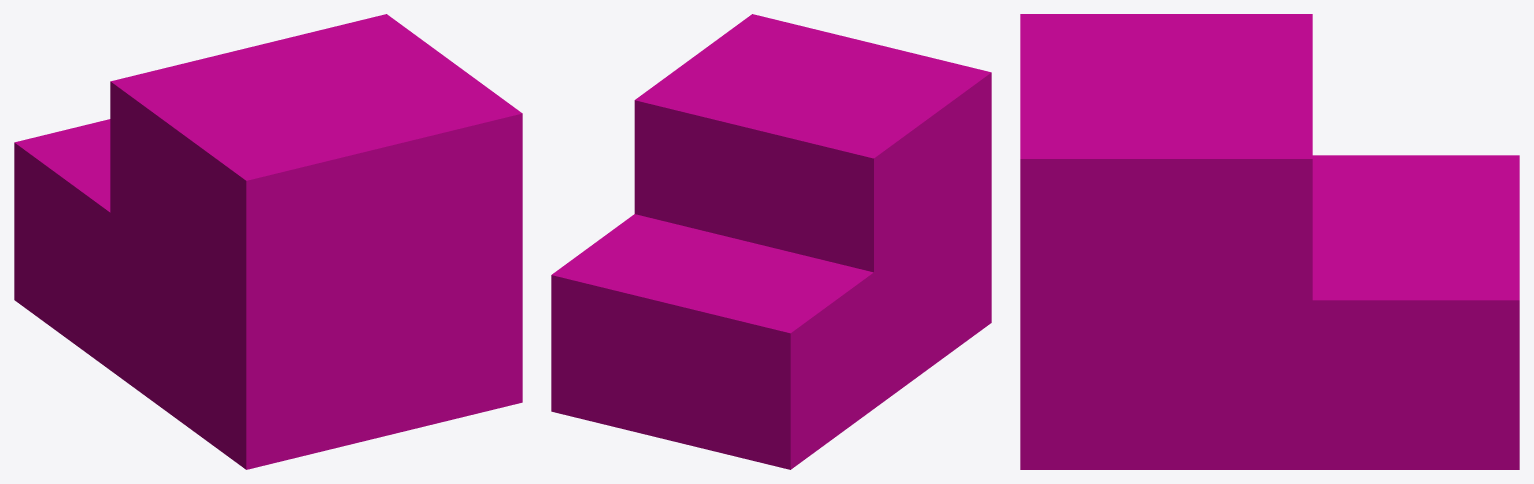
Rendered from left_gripper_collision.dae.
3 views of the same model, side by side, from view 1: azimuth 30°, elevation 25°; view 2: azimuth 150°, elevation 25°; view 3: azimuth 270°, elevation 25° (orthographic). The views are drawn at different scales.
Visible parts, largest first — view 1: left_gripper_collision; view 2: left_gripper_collision; view 3: left_gripper_collision.
Boxes of the visible parts, x1=… form: left_gripper_collision: x1=14, y1=14, x2=522, y2=469; left_gripper_collision: x1=551, y1=14, x2=991, y2=469; left_gripper_collision: x1=1020, y1=14, x2=1519, y2=469.
Size of the model in its own units: 0.1079 by 0.157 by 0.1079.
